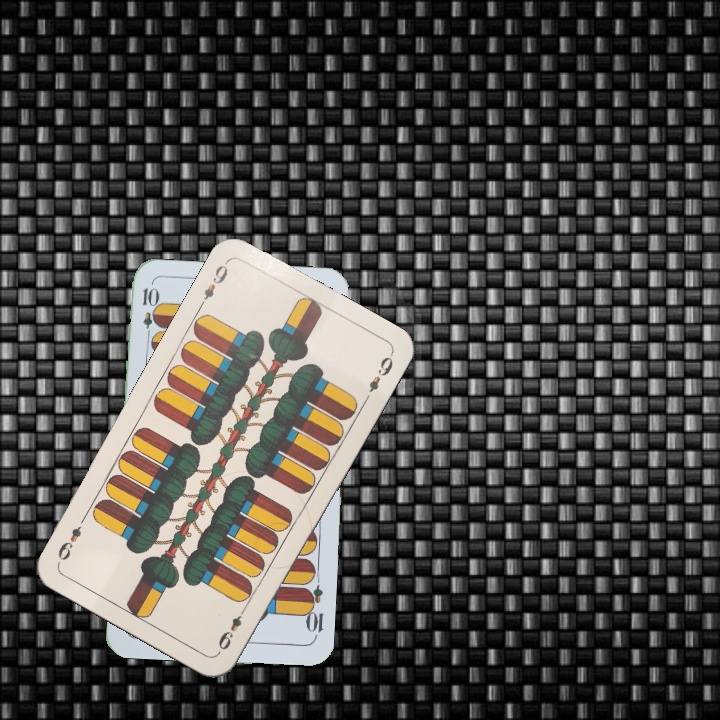E10: (300, 582, 326, 641), (138, 283, 157, 342)
E9: (214, 601, 250, 655), (195, 257, 231, 311)
